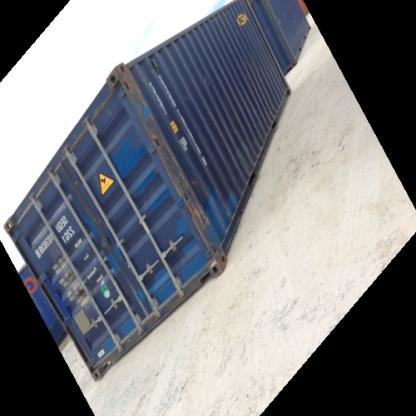Damage: (114, 64, 153, 130), (176, 170, 210, 241), (148, 124, 180, 175)
